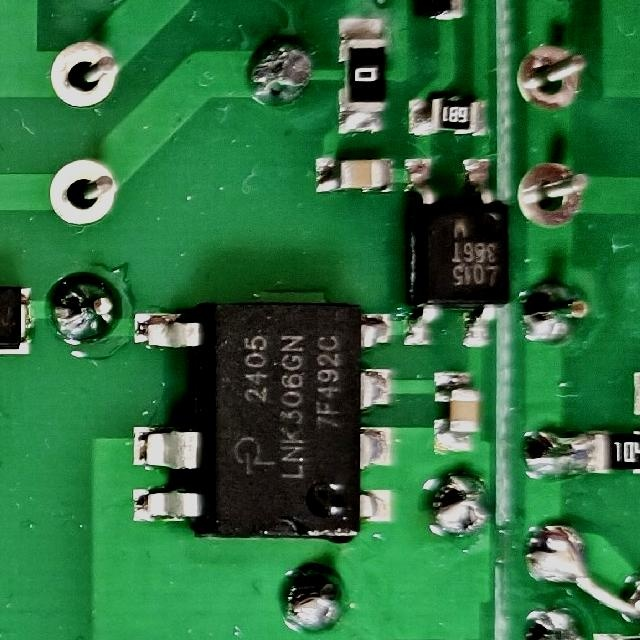chip-capacitor: (431, 368, 481, 455), (311, 155, 397, 197)
chip-resistor: (333, 17, 387, 138), (404, 94, 491, 139), (581, 428, 640, 477)
ic: (126, 297, 394, 547), (398, 154, 510, 350)
